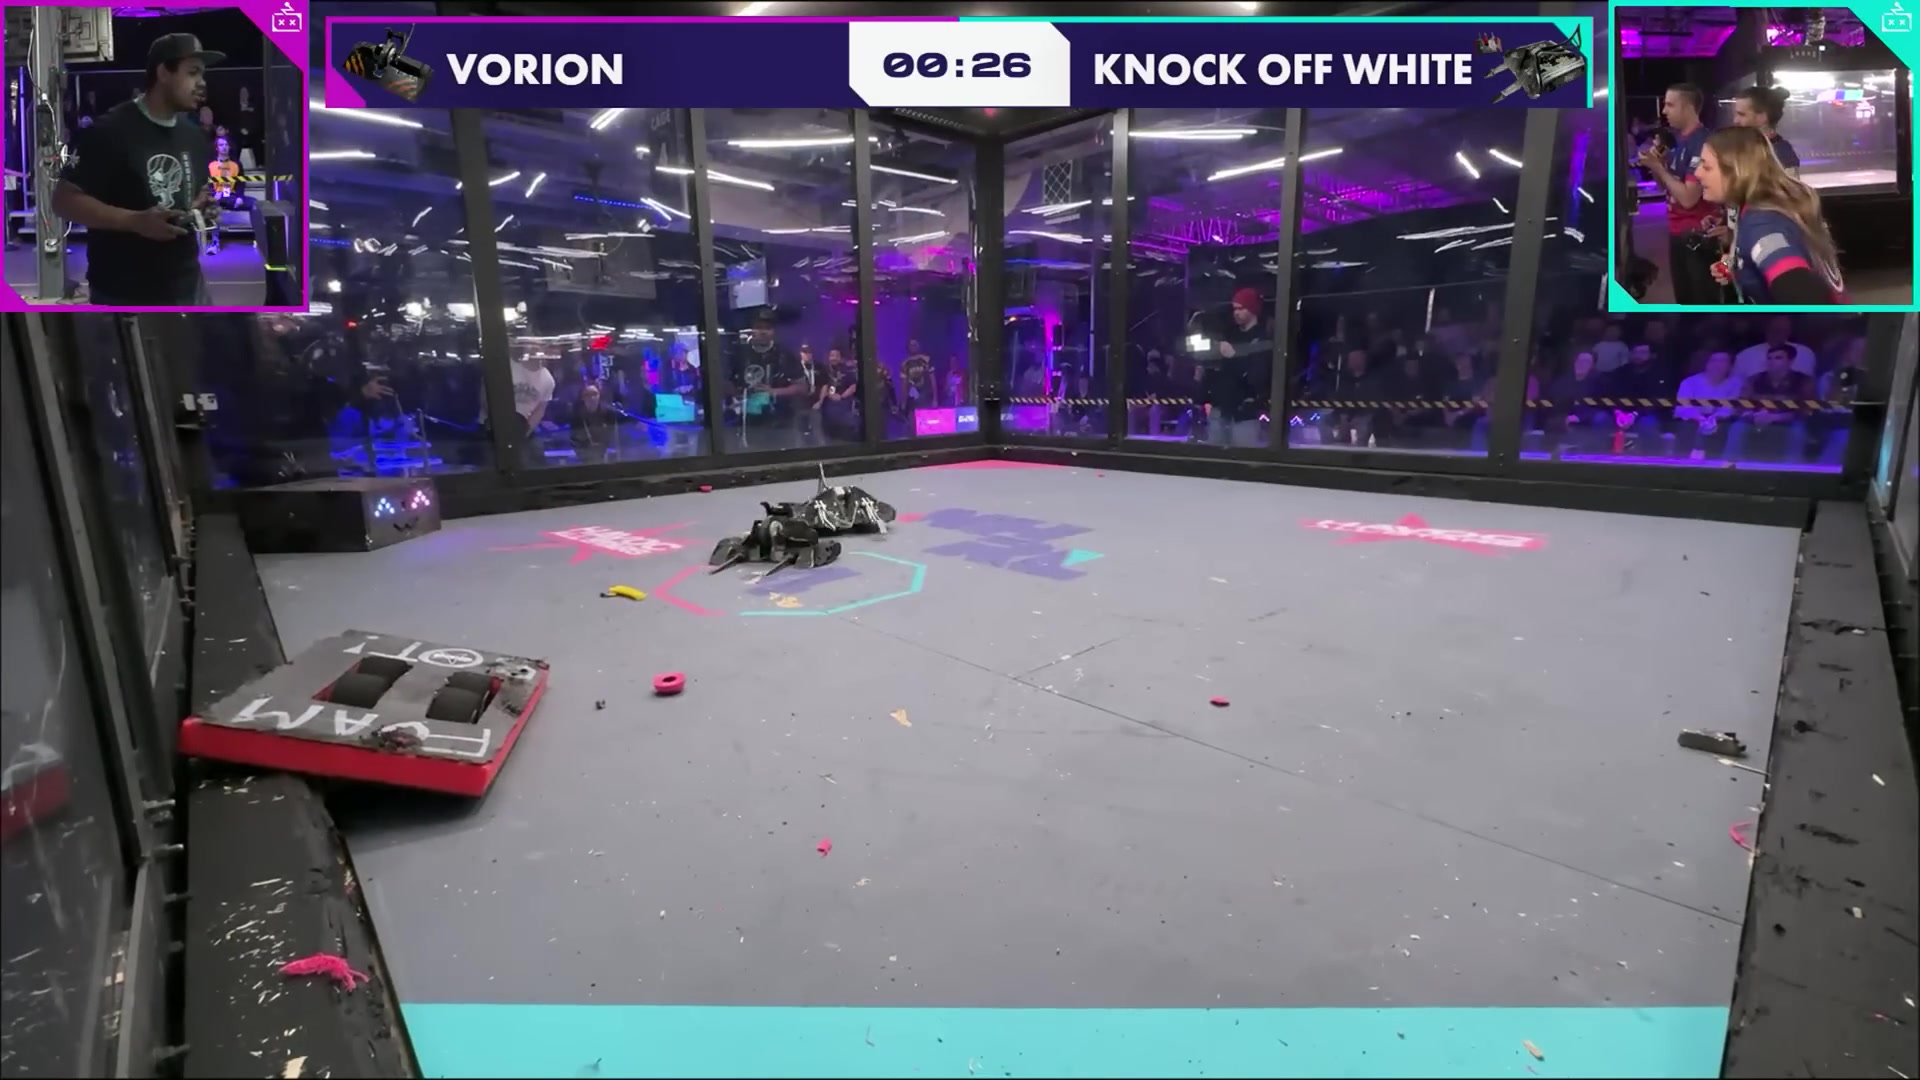combatbot: (775, 465, 901, 538), (708, 518, 843, 570)
debris: (1673, 723, 1742, 761), (604, 585, 644, 603)
housebot: (233, 477, 444, 558)
minibot: (175, 625, 558, 810)
wheel: (654, 670, 684, 695)
